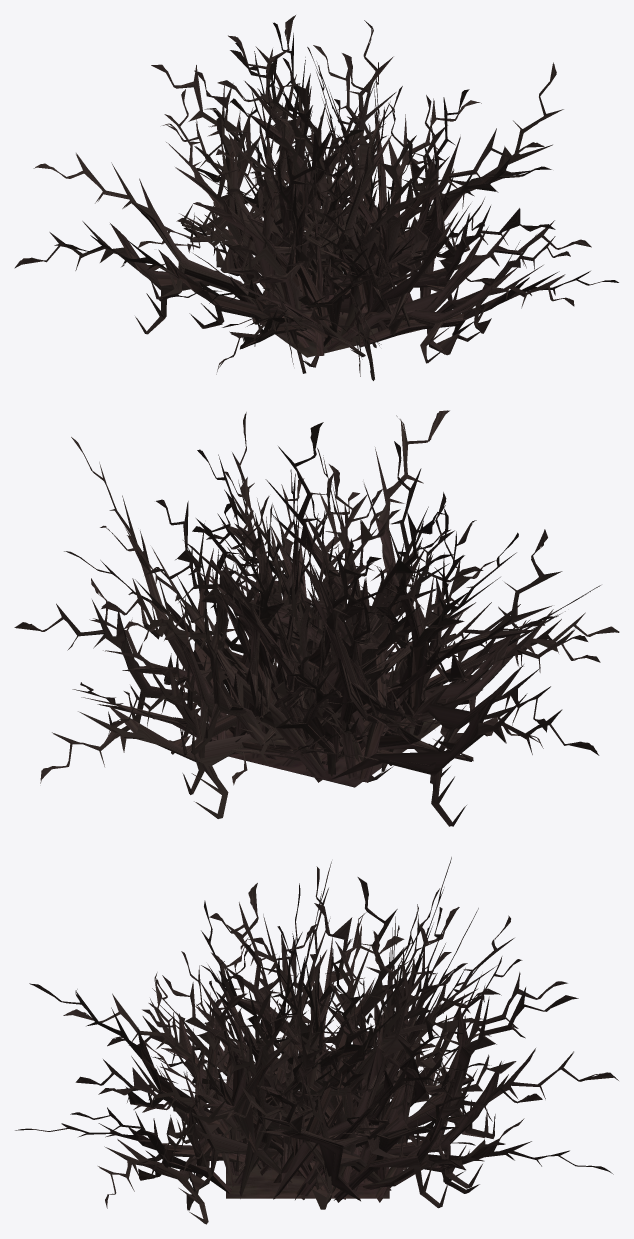
File: _reeBranch.fbx
3 renders of one model, top to bottom at view 1: azimuth 30°, elevation 25°; view 2: azimuth 150°, elevation 25°; view 3: azimuth 270°, elevation 25°, orthographic. The views are drawn at different scales.
Parts seen in each view (by area): view 1: Cube.088; view 2: Cube.088; view 3: Cube.088.
Part boxes in pixels (x1,y1,x2,y2): Cube.088: (14,15,618,380); Cube.088: (14,410,619,826); Cube.088: (15,857,618,1224).
Size of the model in its own units: 75.41 by 44.05 by 74.07.
1 material, 1 textured.
